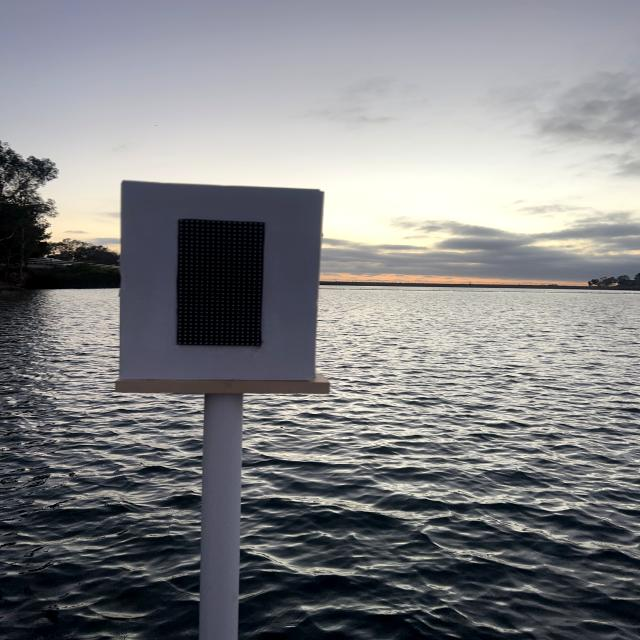led: (136, 198, 306, 382)
